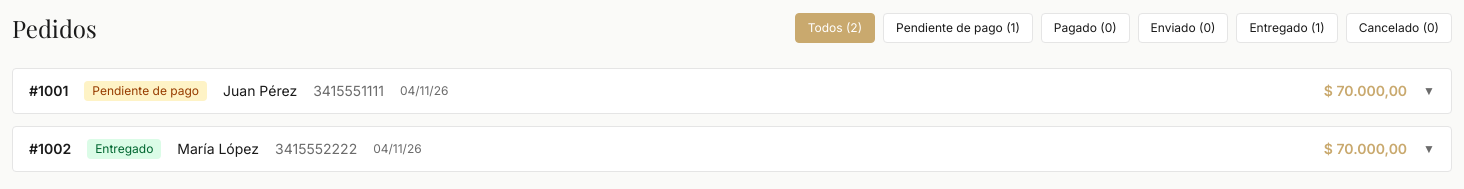
Test: AdminOrders › filtra por estado
This screenshot has width=1464, height=189.
Check: the text "#1001" is shown, box [29,81,68,101]
What coordinates should you click on to do the following:
click the button "Entregado (1)"
I would click on:
 (1287, 28)
Its box is [1236,13,1338,43].
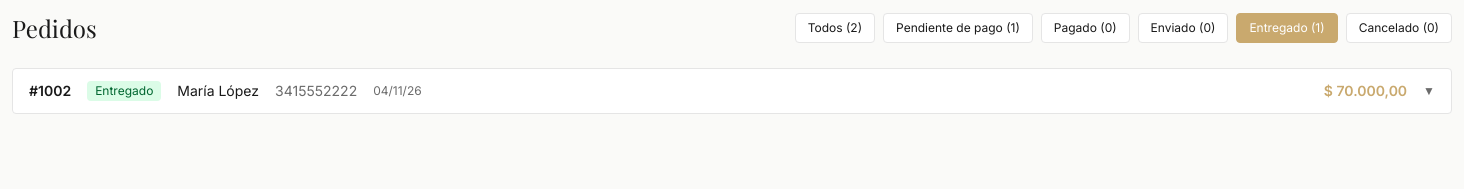
Check: the text "#1002" is shown, box [29,81,71,101]
Check: the button "#1001" is gone
